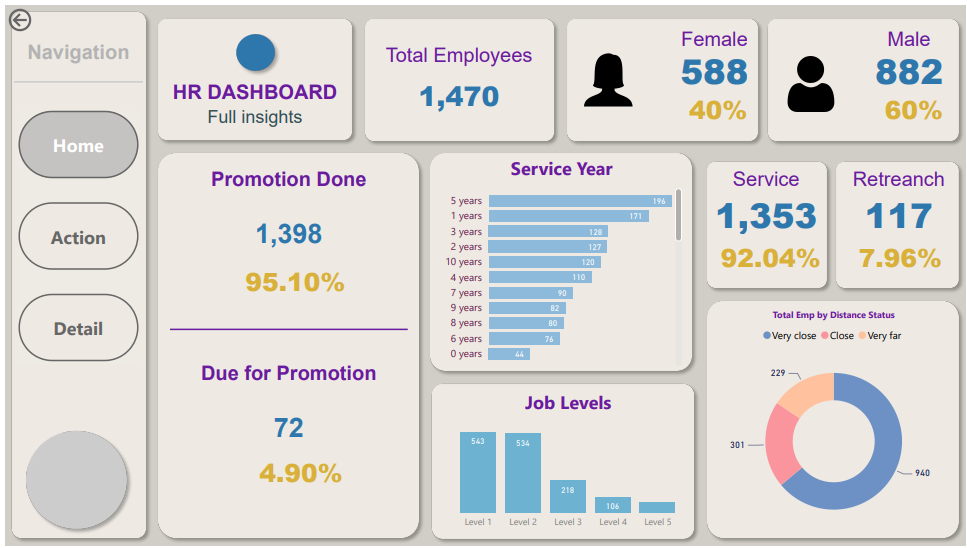

The dashboard page shown, as its layout file describes it:
{"tool":"powerbi","page":{"name":"Home","canvas":[1280,720],"ordinal":0},"visuals":[{"type":"shape","box":[0,0,195.9,719.3],"z":0},{"type":"shape","box":[195.6,9.9,275,178.6],"z":1000},{"type":"shape","box":[470.6,9.9,270.7,180],"z":2000},{"type":"shape","box":[741.3,9.9,270.7,180],"z":3000},{"type":"shape","box":[1009.1,9.9,270.7,180],"z":4000},{"type":"shape","box":[195.6,188.5,365.7,530.1],"z":5000},{"type":"shape","box":[558.4,188.5,365.7,307.6],"z":6000},{"type":"shape","box":[561.3,497.5,365.7,222.5],"z":7000},{"type":"shape","box":[926.9,199.8,177.2,185.7],"z":8000},{"type":"shape","box":[1099.8,199.8,180,185.7],"z":9000},{"type":"shape","box":[926.9,385.5,352.9,333.1],"z":10000},{"type":"textbox","box":[195.6,96.4,275,43.9],"z":11000},{"type":"textbox","box":[195.6,130.4,275,59.5],"z":12000},{"type":"shape","box":[300.5,29.8,68,66.6],"z":13000},{"type":"textbox","box":[470.6,29.8,270.7,43.9],"z":14000},{"type":"textbox","box":[895.7,29.8,97.8,43.9],"z":15000},{"type":"textbox","box":[1132.4,29.8,129,43.9],"z":16000},{"type":"card","title":"Total Employees","fields":{"Values":["All Measures.Total Emp"]},"box":[479.8,52,251.6,107.4],"z":17000},{"type":"card","title":"Male","fields":{"Values":["All Measures.Male"]},"box":[1142.4,29.8,126.1,82.2],"z":18000},{"type":"card","title":"Female","fields":{"Values":["All Measures.% female"]},"box":[892.9,102,116.2,75.1],"z":19000},{"type":"card","title":"Female","fields":{"Values":["All Measures.% male"]},"box":[1155.1,102,113.4,75.1],"z":20000},{"type":"card","title":"Female","fields":{"Values":["All Measures.Female"]},"box":[883,29.8,126.1,82.2],"z":21000},{"type":"image","box":[755.4,51,95,99.2],"z":22000},{"type":"image","box":[1027.6,63.8,93.5,83.6],"z":23000},{"type":"card","title":"Promotion Done","fields":{"Values":["All Measures.Not Due"]},"box":[206.9,216.9,343,143.1],"z":24000},{"type":"card","title":"Due for Promotion","fields":{"Values":["All Measures.Due for Promotion"]},"box":[231,476.2,294.8,143.1],"z":25000},{"type":"card","fields":{"Values":["All Measures.% Notdue"]},"box":[238.1,309,299.1,117.6],"z":26000},{"type":"card","fields":{"Values":["All Measures.% due"]},"box":[319.9,557.2,150,131.7],"z":27000},{"type":"shape","box":[220.4,283.2,316.9,298.5],"z":28000},{"type":"barChart","title":" Service Year","fields":{"Category":["HR Analytics Data.Service Year"],"Y":["All Measures.Total Emp"]},"box":[578.3,199.8,328.8,286.3],"z":29000},{"type":"actionButton","box":[0,0,100,40],"z":30000},{"type":"columnChart","title":"Job Levels","fields":{"Category":["HR Analytics Data.Job Levels"],"Y":["All Measures.Total Emp"]},"box":[578.3,511.7,345.8,195.6],"z":31000},{"type":"card","title":"Service","fields":{"Values":["All Measures.On service"]},"box":[929.8,216.9,170.1,92.1],"z":32000},{"type":"card","title":"Service","fields":{"Values":["All Measures.% on service"]},"box":[938.3,286.3,165.8,99.2],"z":33000},{"type":"card","title":"Retreanch","fields":{"Values":["All Measures.retrenched"]},"box":[1106.8,217.4,169.9,91.9],"z":34000},{"type":"card","title":"Service","fields":{"Values":["All Measures.% retreached"]},"box":[1111.2,286.3,165.8,99.2],"z":35000},{"type":"donutChart","fields":{"Category":["HR Analytics Data.Distance Status"],"Y":["All Measures.Total Emp"]},"box":[935.3,404.1,339.8,310.8],"z":36000},{"type":"shape","box":[19.9,560.3,151.6,147],"z":37000},{"type":"shape","box":[12.2,7.7,171.5,189.8],"z":38000},{"type":"textbox","box":[12.2,42.9,171.5,45.9],"z":39000},{"type":"pageNavigator","box":[18.4,140.8,160.7,336.8],"z":40000}]}

Visuals, with their boxes in screenshot pixels (x1, y1, x2, y2), scaled from the page's 1280x720 canvas onto the 967x548 screenshot:
shape: <box>0,0,148,547</box>
shape: <box>148,8,356,143</box>
shape: <box>356,8,560,145</box>
shape: <box>560,8,765,145</box>
shape: <box>762,8,966,145</box>
shape: <box>148,143,424,547</box>
shape: <box>422,143,698,378</box>
shape: <box>424,379,700,547</box>
shape: <box>700,152,834,293</box>
shape: <box>831,152,966,293</box>
shape: <box>700,293,966,547</box>
textbox: <box>148,73,356,107</box>
textbox: <box>148,99,356,145</box>
shape: <box>227,23,278,73</box>
textbox: <box>356,23,560,56</box>
textbox: <box>677,23,751,56</box>
textbox: <box>855,23,953,56</box>
"Total Employees" card: <box>362,40,553,121</box>
"Male" card: <box>863,23,958,85</box>
"Female" card: <box>675,78,762,135</box>
"Female" card: <box>873,78,958,135</box>
"Female" card: <box>667,23,762,85</box>
image: <box>571,39,642,114</box>
image: <box>776,49,847,112</box>
"Promotion Done" card: <box>156,165,415,274</box>
"Due for Promotion" card: <box>175,362,397,471</box>
card - All Measures.% Notdue: <box>180,235,406,325</box>
card - All Measures.% due: <box>242,424,355,524</box>
shape: <box>167,216,406,443</box>
" Service Year" barChart: <box>437,152,685,370</box>
actionButton: <box>0,0,76,30</box>
"Job Levels" columnChart: <box>437,389,698,538</box>
"Service" card: <box>702,165,831,235</box>
"Service" card: <box>709,218,834,293</box>
"Retreanch" card: <box>836,165,965,235</box>
"Service" card: <box>839,218,965,293</box>
donutChart - HR Analytics Data.Distance Status x All Measures.Total Emp: <box>707,308,963,544</box>
shape: <box>15,426,130,538</box>
shape: <box>9,6,139,150</box>
textbox: <box>9,33,139,68</box>
pageNavigator: <box>14,107,135,364</box>
